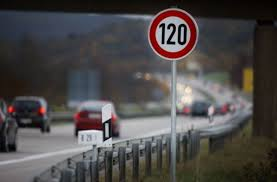Speed_limit_120km: (146, 8, 201, 61)
